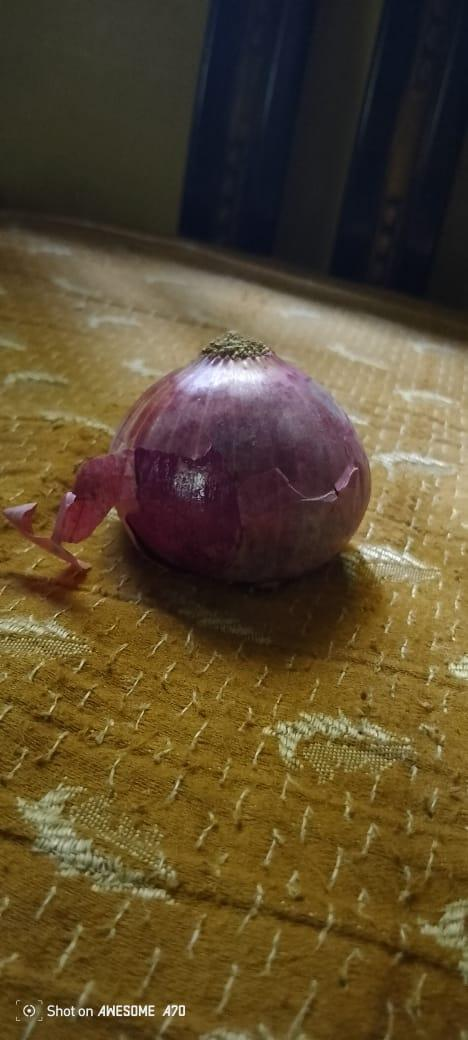non-mango: (113, 334, 376, 578)
